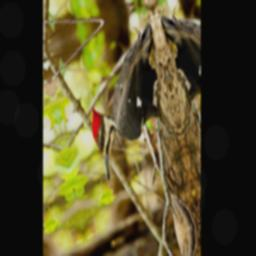Woodpecker: (76, 22, 179, 185)
